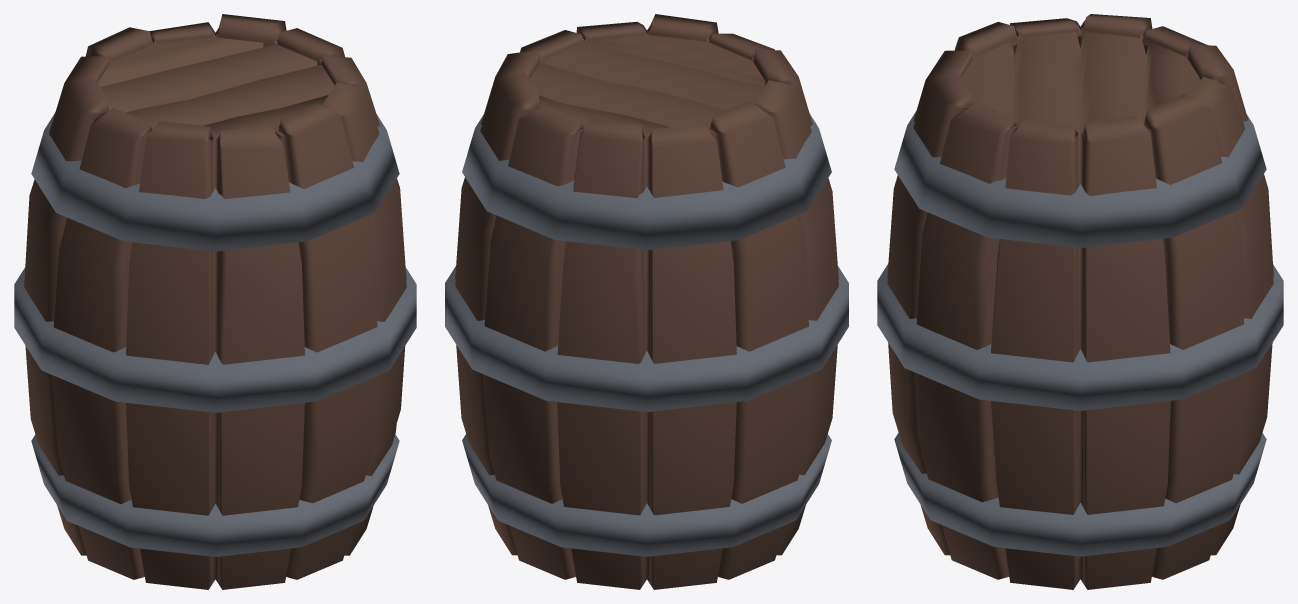
File: barrel.fbx
The picture shows the model from 3 angles, left to right: view 1: azimuth 30°, elevation 25°; view 2: azimuth 150°, elevation 25°; view 3: azimuth 270°, elevation 25°; orthographic projection.
Parts seen in each view (by area): view 1: barrel; view 2: barrel; view 3: barrel.
Boxes of the visible parts, x1,y1,x2,y2 form: barrel: [14, 14, 416, 589]; barrel: [445, 14, 848, 589]; barrel: [877, 14, 1283, 589].
Bounding box in the file's own units: 79.27 × 100 × 79.27.
